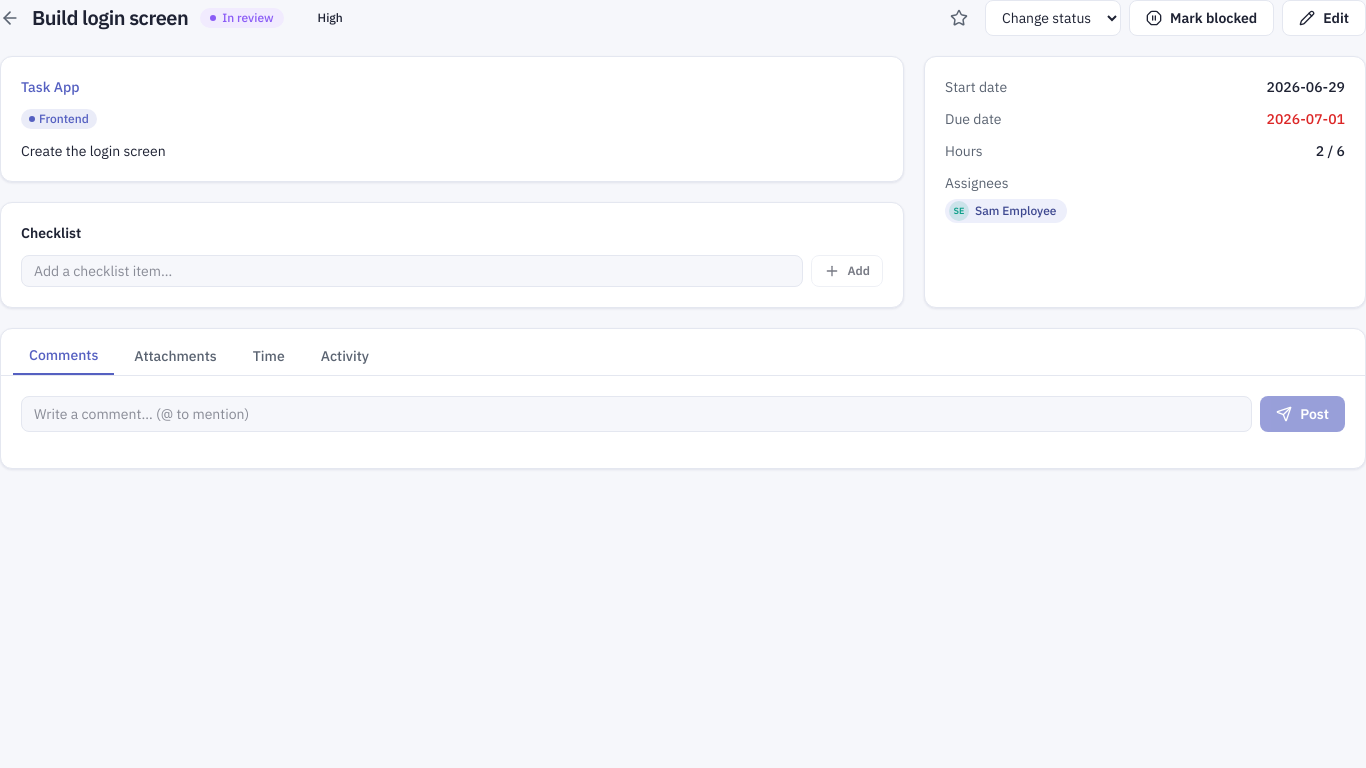
Test: task details › shows review transitions for a reviewer and sends the note
The image size is (1366, 768).
Expected: the heading "Build login screen" is shown, x1=32 y1=4 x2=188 y2=32
Step 1. Select "Reopened" in the dropdown named "change status" → (1053, 18), box x1=985 y1=0 x2=1121 y2=36
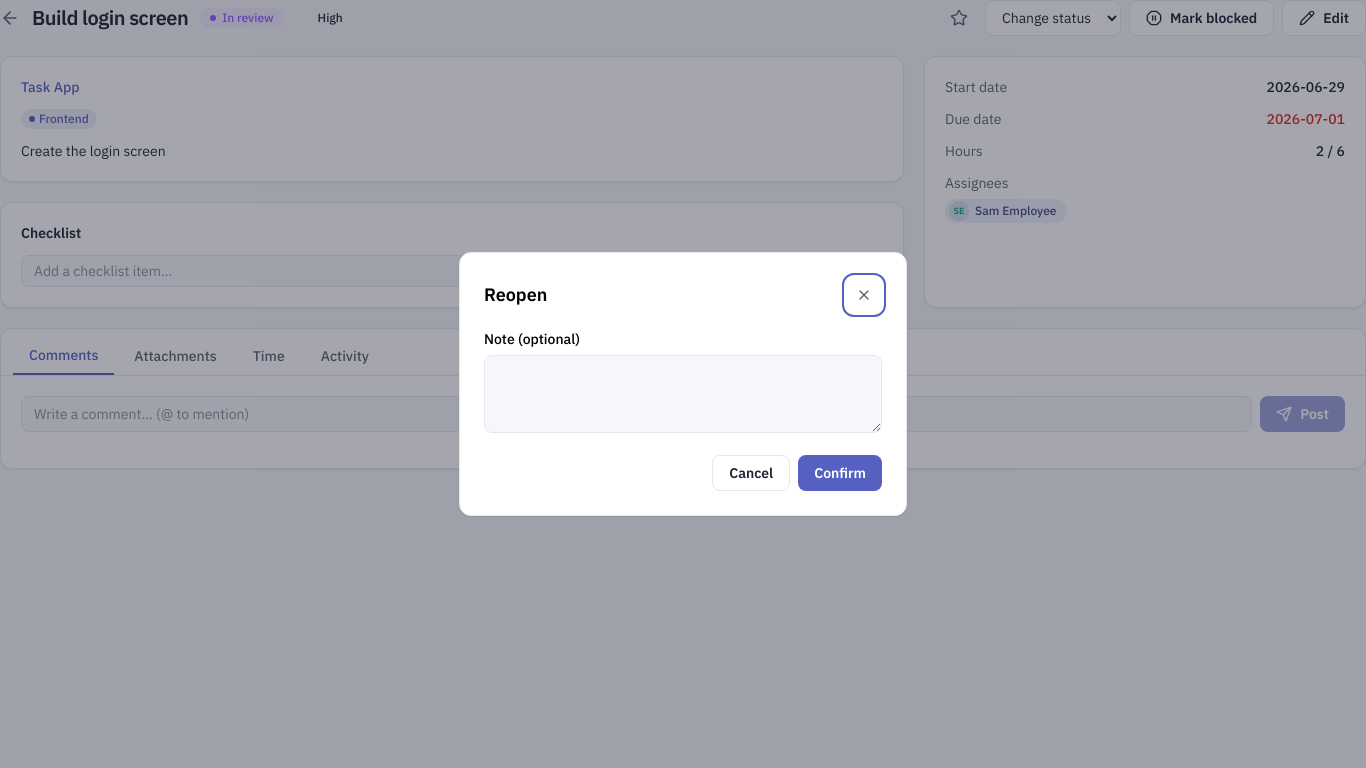
Step 2. Type "Needs polish" into the text box labelled "Note (optional)" → (683, 394), box x1=484 y1=355 x2=882 y2=433
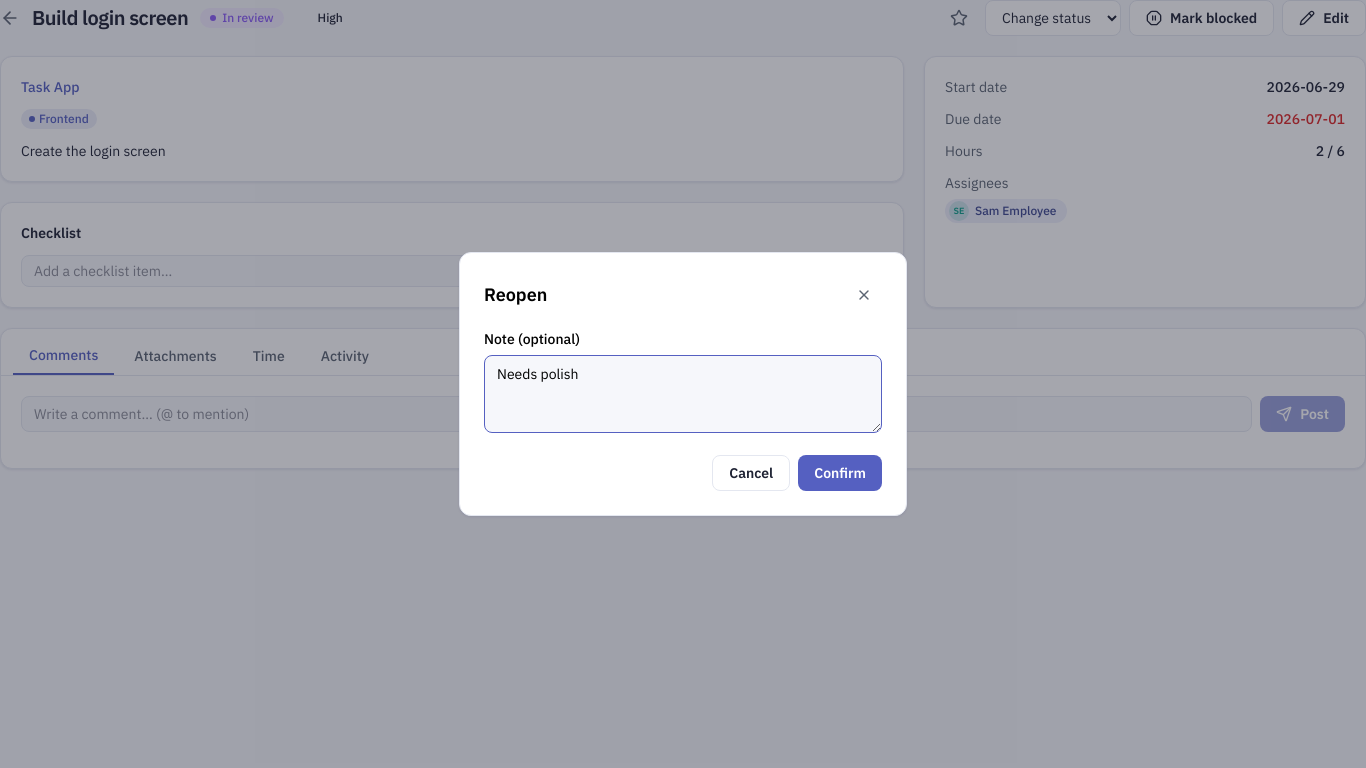
Step 3. Click the button "Confirm" → (840, 473), box x1=798 y1=455 x2=882 y2=491
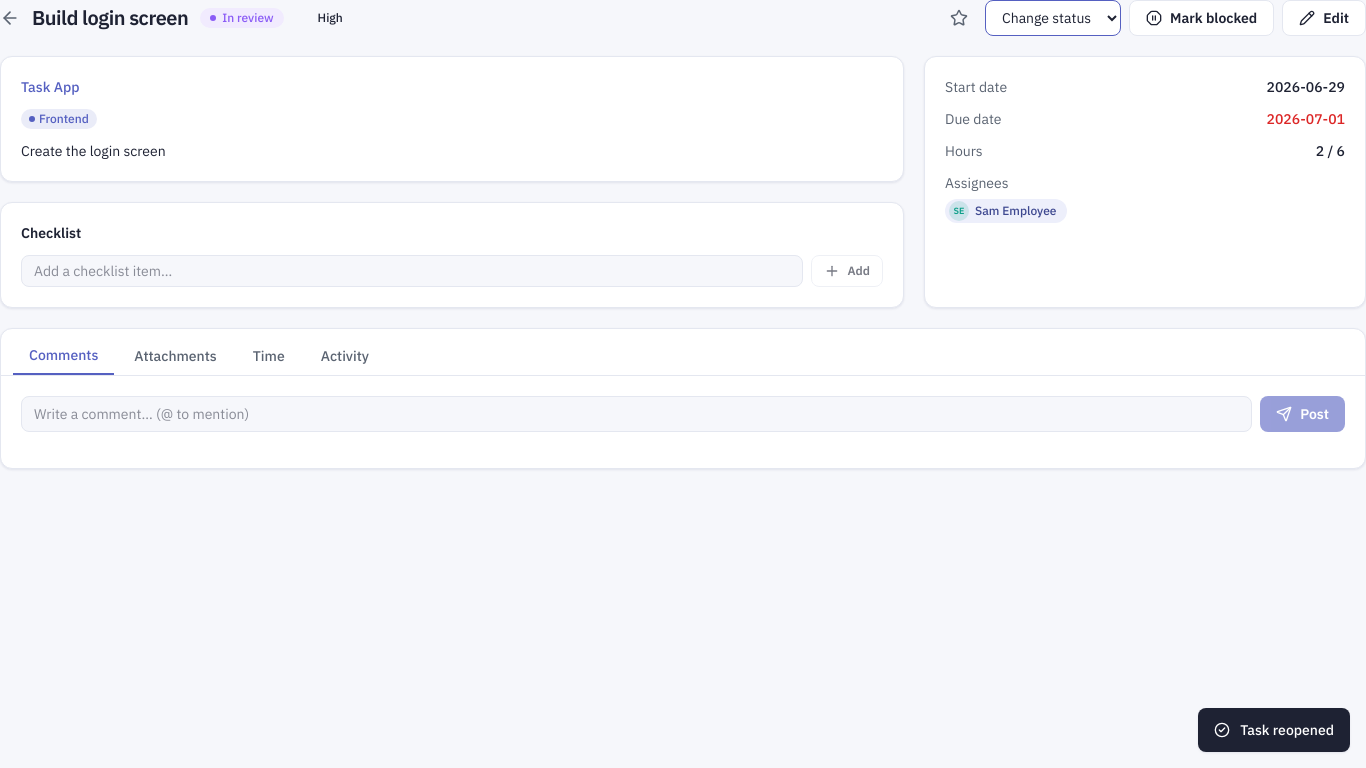
Expected: the text "Task reopened" is shown, x1=1198 y1=708 x2=1350 y2=752
